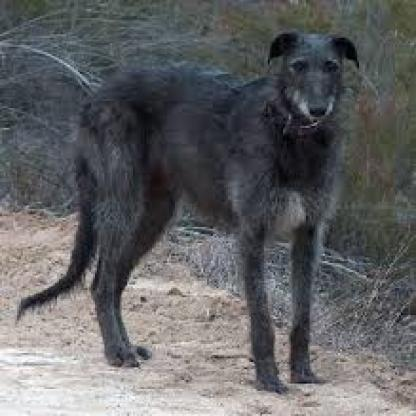Deerhound: (42, 24, 366, 400)
